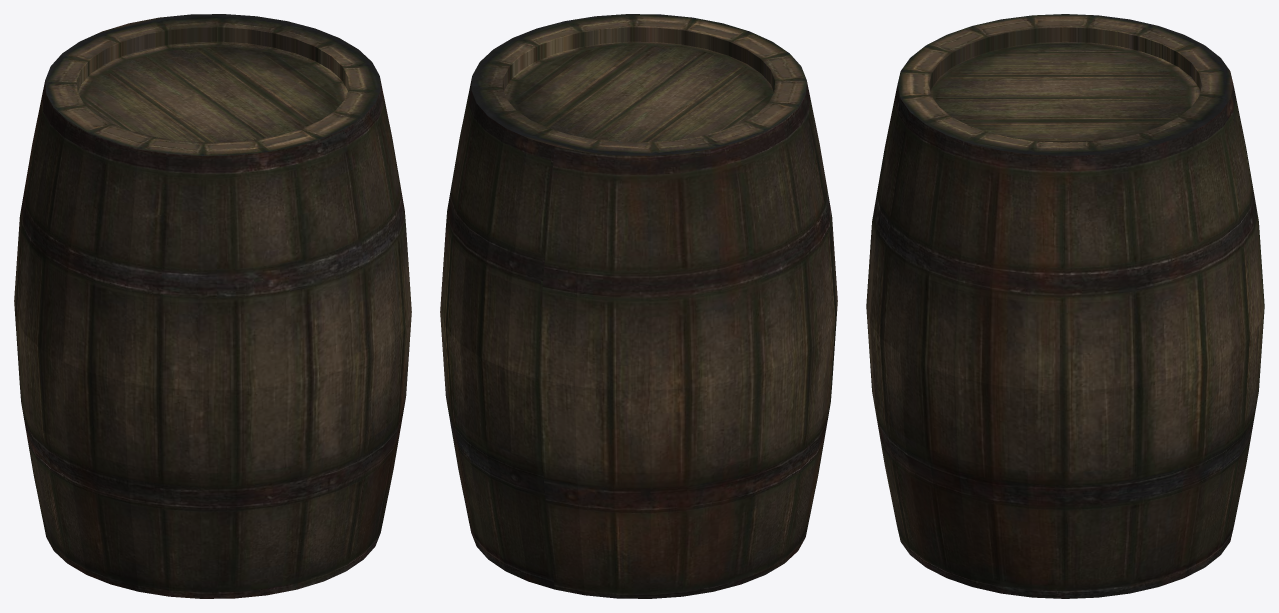
The model's file is barril.fbx.
3 renders of one model, left to right at view 1: azimuth 30°, elevation 25°; view 2: azimuth 150°, elevation 25°; view 3: azimuth 270°, elevation 25°, orthographic.
Parts seen in each view (by area): view 1: Cylinder; view 2: Cylinder; view 3: Cylinder.
Boxes of the visible parts, x1,y1,x2,y2 form: Cylinder: (14,14,411,598); Cylinder: (440,14,837,598); Cylinder: (866,14,1264,598).
Bounding box in the file's own units: 245 × 301 × 245.
Materials: 1 (1 with a texture image).
